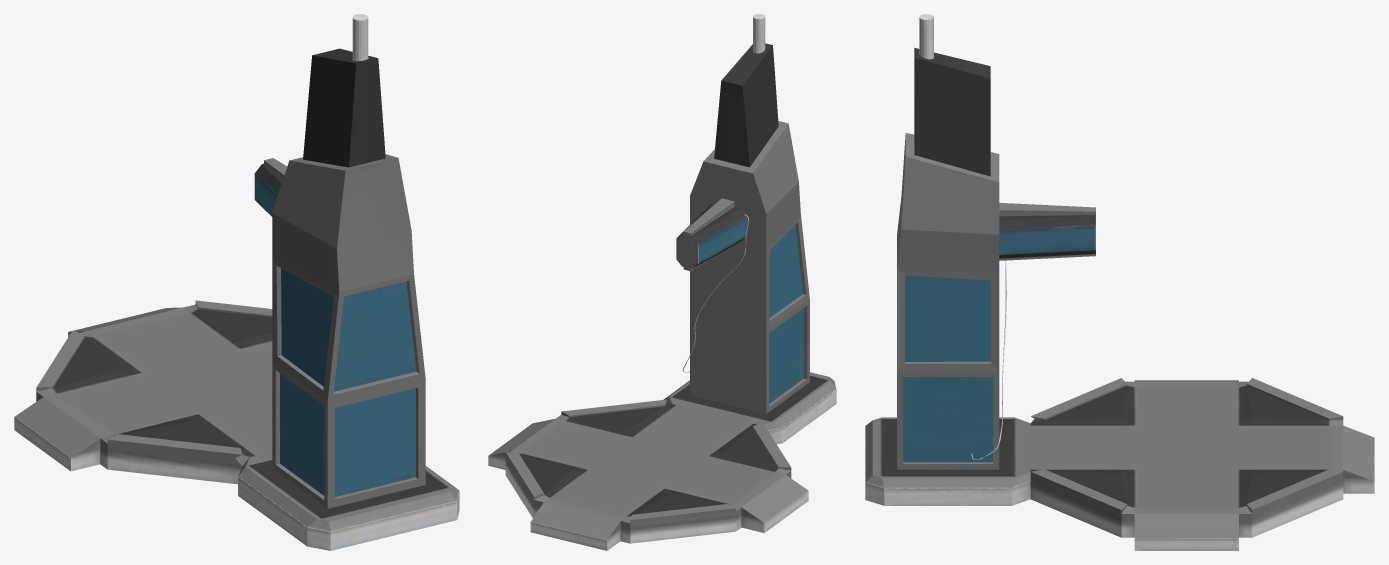
Rendered from aegis_hq.glb.
3 renders of one model, left to right at view 1: azimuth 30°, elevation 25°; view 2: azimuth 150°, elevation 25°; view 3: azimuth 270°, elevation 25°, orthographic. The views are drawn at different scales.
Parts seen in each view (by area): view 1: Launch Pad__0; view 2: Launch Pad__0; view 3: Launch Pad__0.
Part boxes in pixels (x1,y1,x2,y2): Launch Pad__0: [14, 14, 459, 550]; Launch Pad__0: [488, 14, 836, 550]; Launch Pad__0: [865, 14, 1374, 550].
Size of the model in its own units: 23.27 by 31.08 by 31.57.
Materials: 1 (1 with a texture image).
